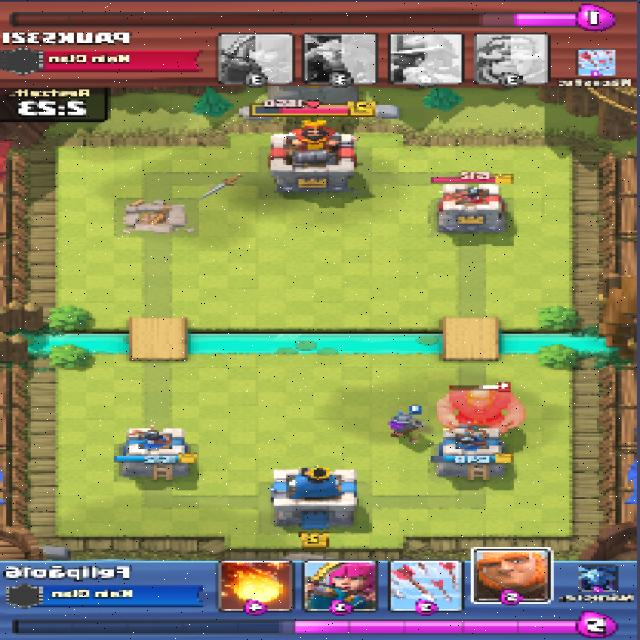Enemy-Giant: (440, 386, 525, 428)
Player-Musketeer: (389, 412, 423, 440)
